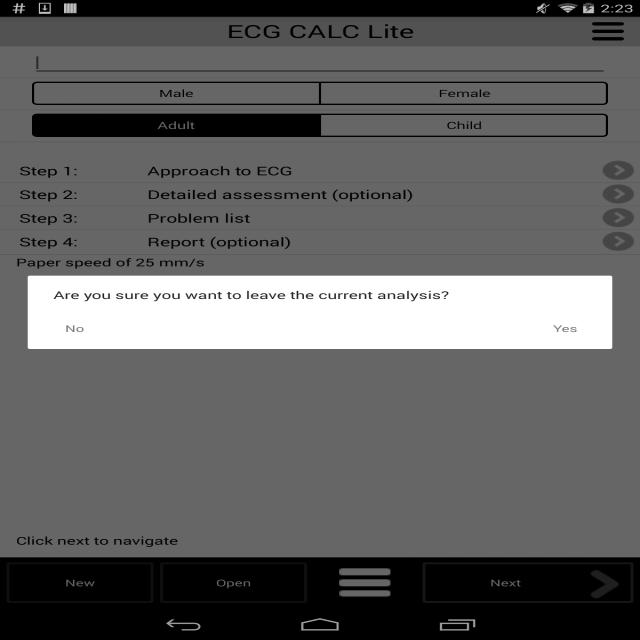Button: (412, 560, 638, 606)
ImageButton: (328, 562, 397, 602), (582, 18, 630, 46)
TextView: (52, 286, 455, 302), (220, 19, 416, 46), (13, 526, 188, 548), (141, 162, 308, 180), (14, 159, 72, 177), (436, 86, 498, 102), (60, 316, 115, 333), (154, 87, 213, 100), (545, 320, 589, 334)
